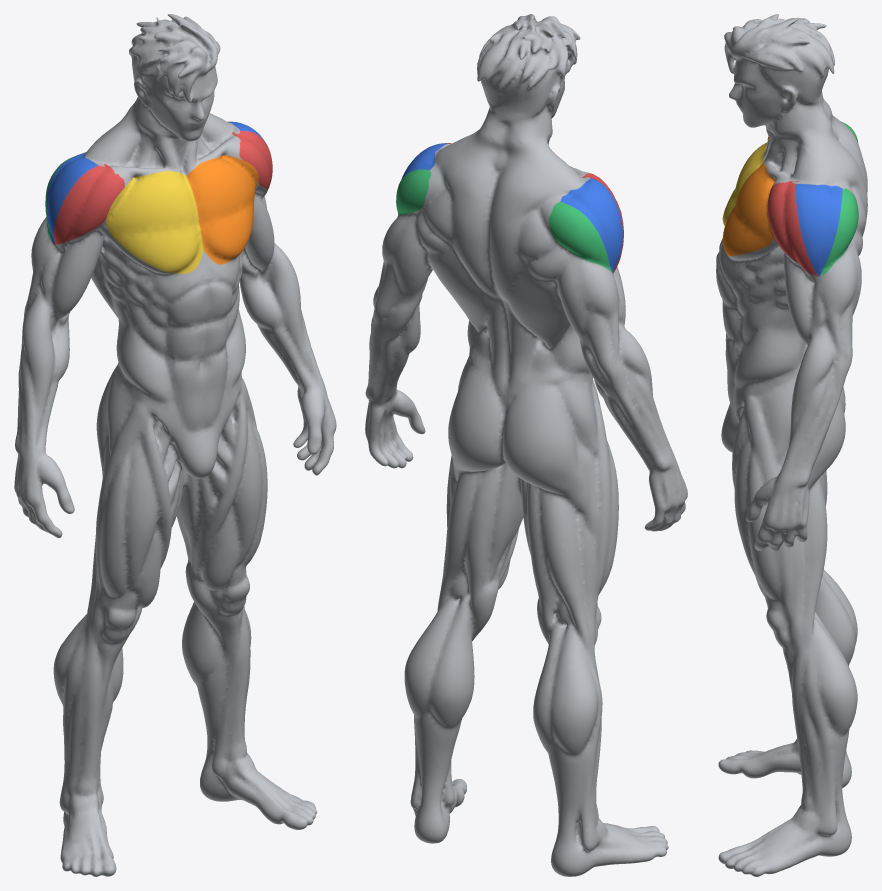
The model's file is meshy-eight-zones-control.glb.
The picture shows the model from 3 angles, left to right: view 1: azimuth 30°, elevation 25°; view 2: azimuth 150°, elevation 25°; view 3: azimuth 270°, elevation 25°; orthographic projection.
Visible parts, largest first — view 1: meshy.anatomical_form.marble_titan.local_neck_finish; view 2: meshy.anatomical_form.marble_titan.local_neck_finish; view 3: meshy.anatomical_form.marble_titan.local_neck_finish.
Boxes of the visible parts, <box> form: meshy.anatomical_form.marble_titan.local_neck_finish: <box>14,14,336,876</box>; meshy.anatomical_form.marble_titan.local_neck_finish: <box>365,14,687,876</box>; meshy.anatomical_form.marble_titan.local_neck_finish: <box>716,14,867,876</box>.
Bounding box in the file's own units: 0.7588 × 1.9 × 0.3255.
1 material, 1 textured.
